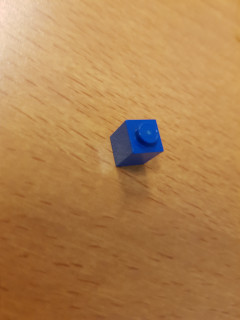1x1 blue: (108, 116, 167, 171)
